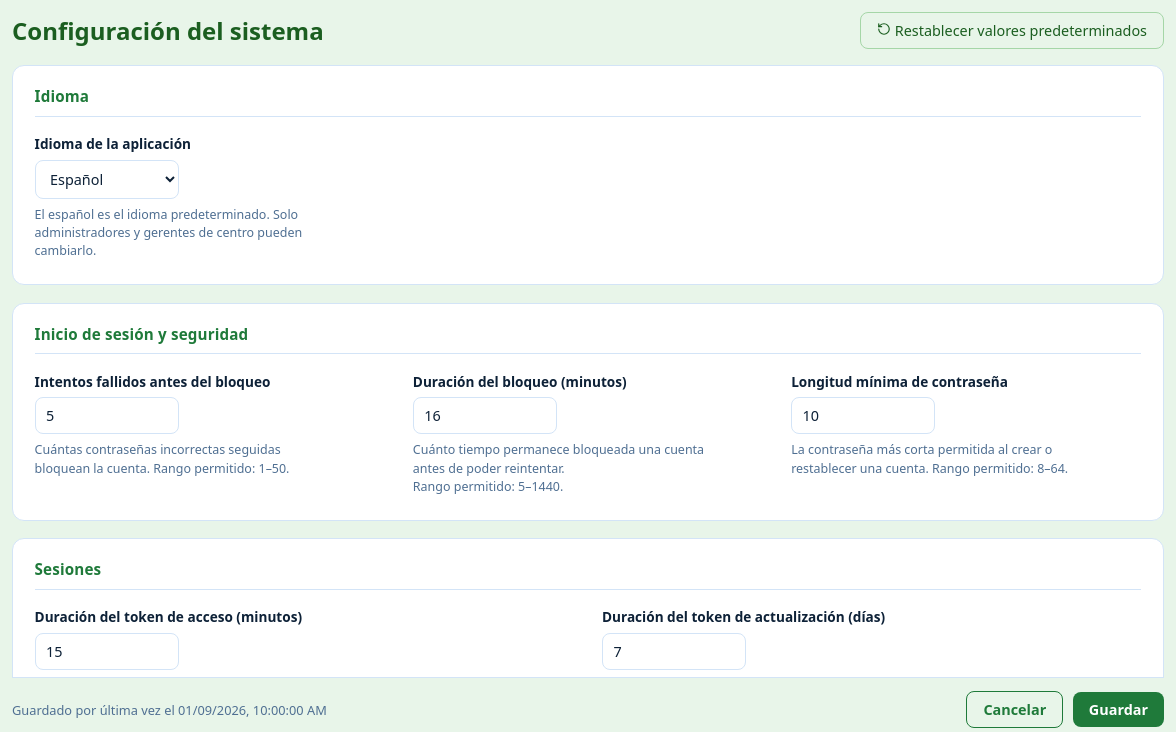
Test case: Settings › discard reverts the field to the loaded value and disables the footer again
Replace the text in the number field labelled "Longitud mínima de contraseña" with "12" at (863, 416), box [791, 397, 935, 434]
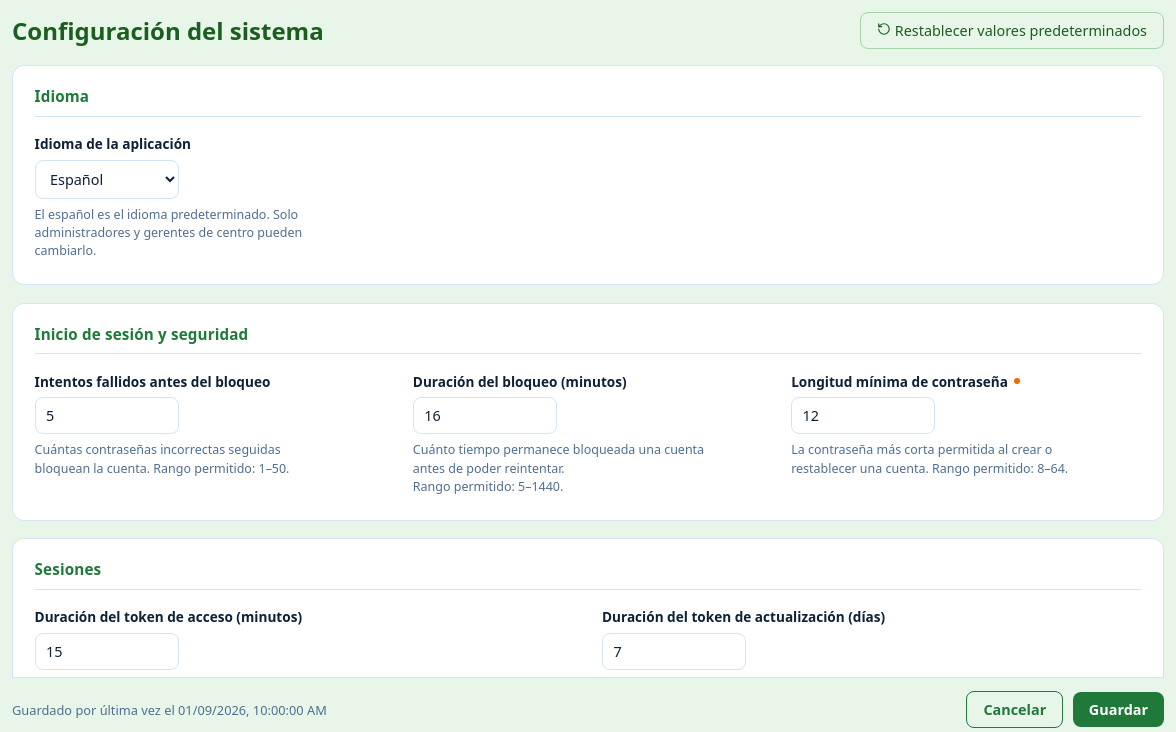
Click the button "Cancelar" at (1015, 710), box [966, 691, 1063, 728]
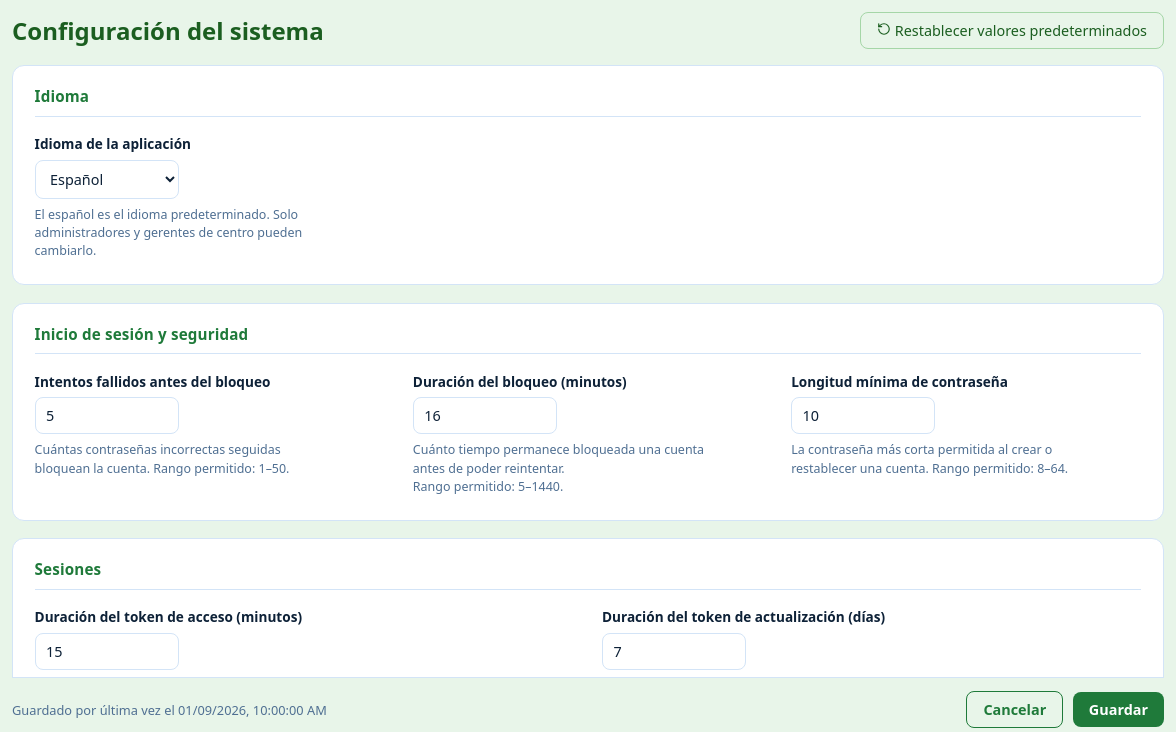
Expected: the button "Guardar" is disabled, [1073, 692, 1164, 727]
Now the number field labelled "Longitud mínima de contraseña" holds "10", box [791, 397, 935, 434]
